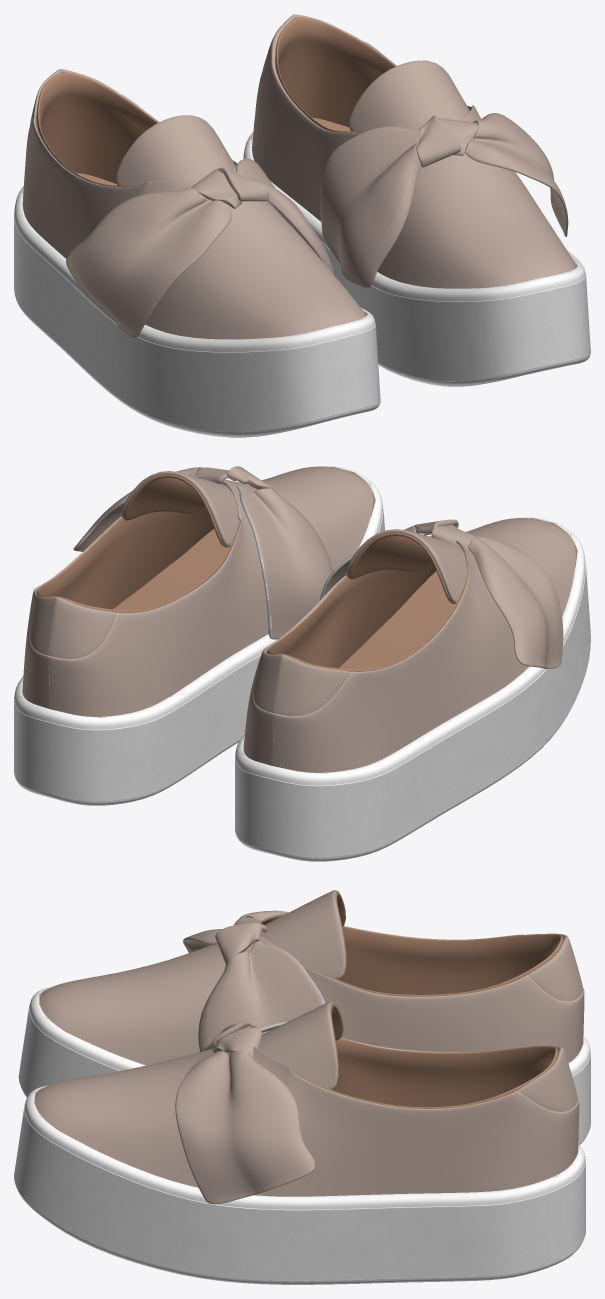
File: female_shoes.fbx
3 views of the same model, one above another, from view 1: azimuth 30°, elevation 25°; view 2: azimuth 150°, elevation 25°; view 3: azimuth 270°, elevation 25° (orthographic).
Parts seen in each view (by area): view 1: Zapatillas; view 2: Zapatillas; view 3: Zapatillas.
Part boxes in pixels (x1=…): Zapatillas: x1=14, y1=14, x2=590, y2=437; Zapatillas: x1=14, y1=466, x2=590, y2=861; Zapatillas: x1=14, y1=890, x2=590, y2=1284.
Bounding box in the file's own units: 26.6 × 13.42 × 29.04.
1 material, 1 textured.
